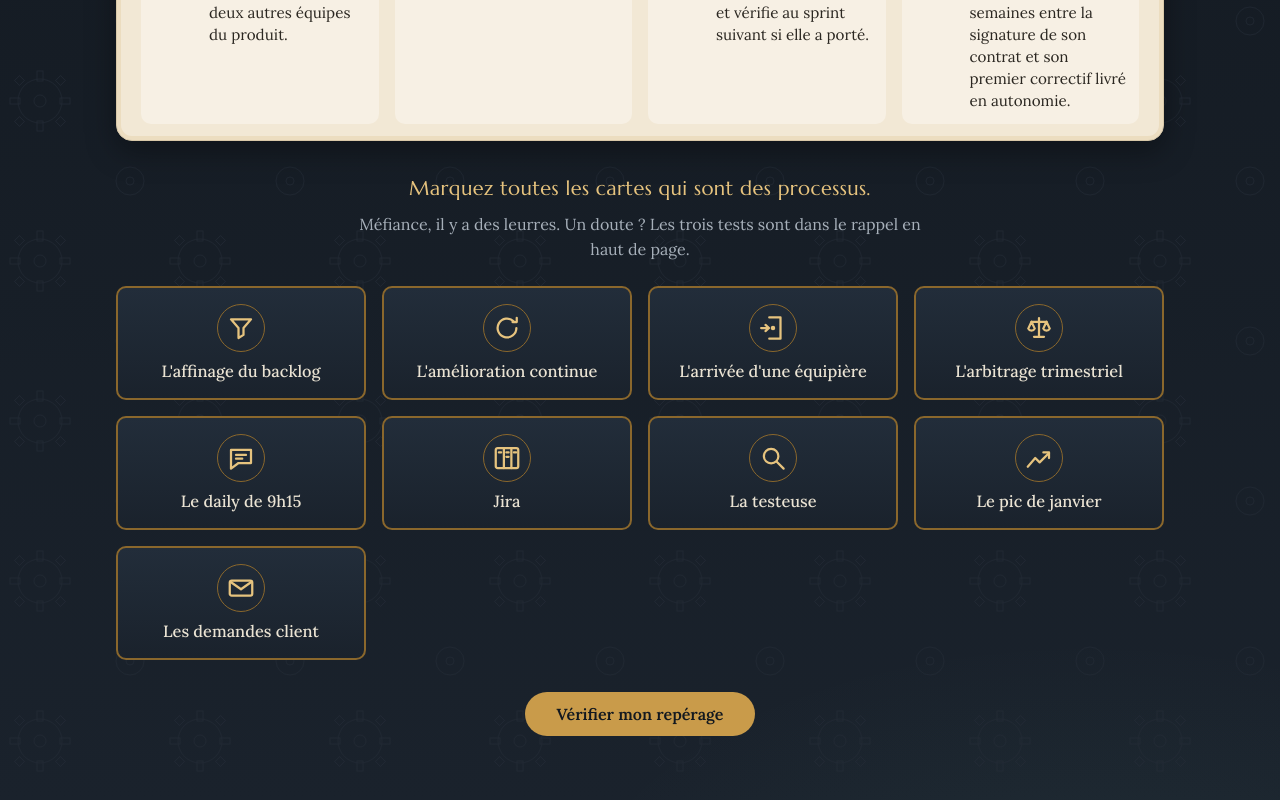
Test: SpottingBoard › marque et démarque un candidat (aria-pressed)
(page scrolled)
Click the button "Jira" at (507, 473), box top-left (382, 416), bottom-right (632, 530)
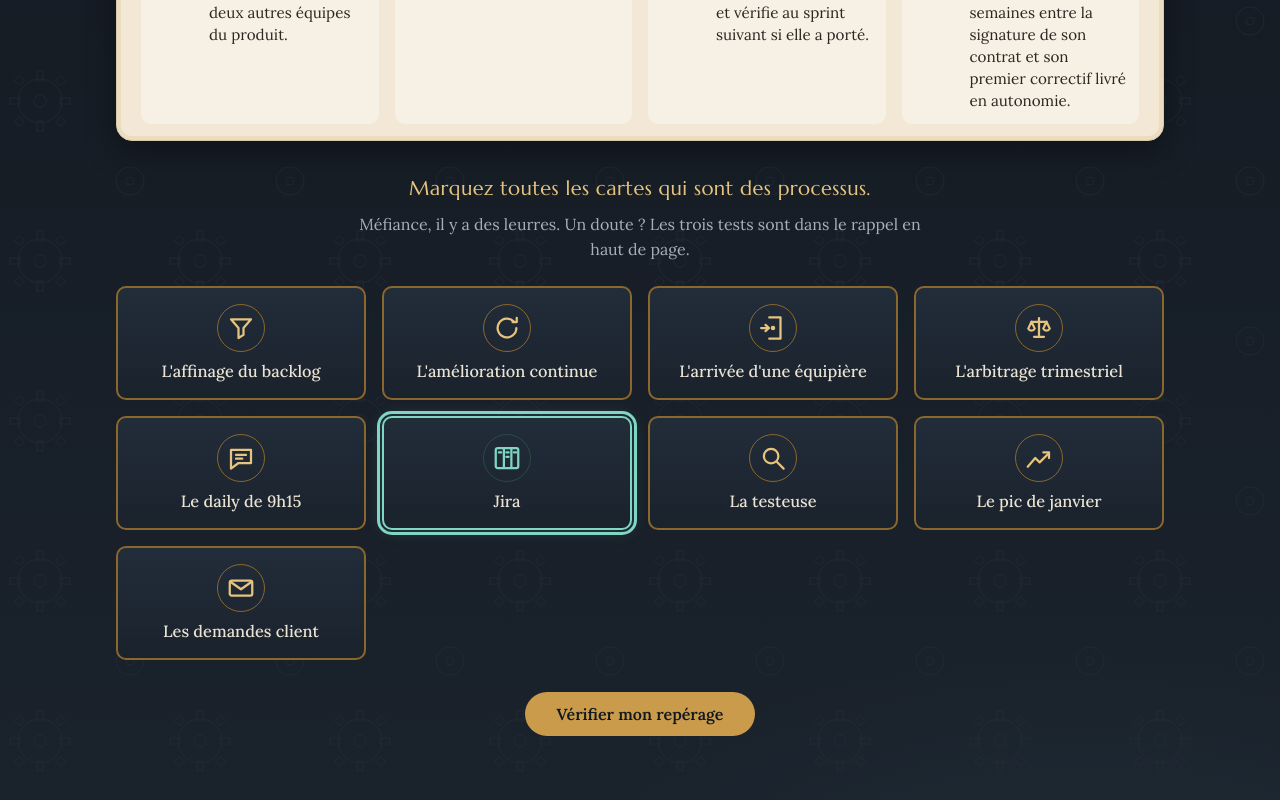
Now the button "Jira" is pressed
Click the button "Jira" at (507, 473), box top-left (382, 416), bottom-right (632, 530)
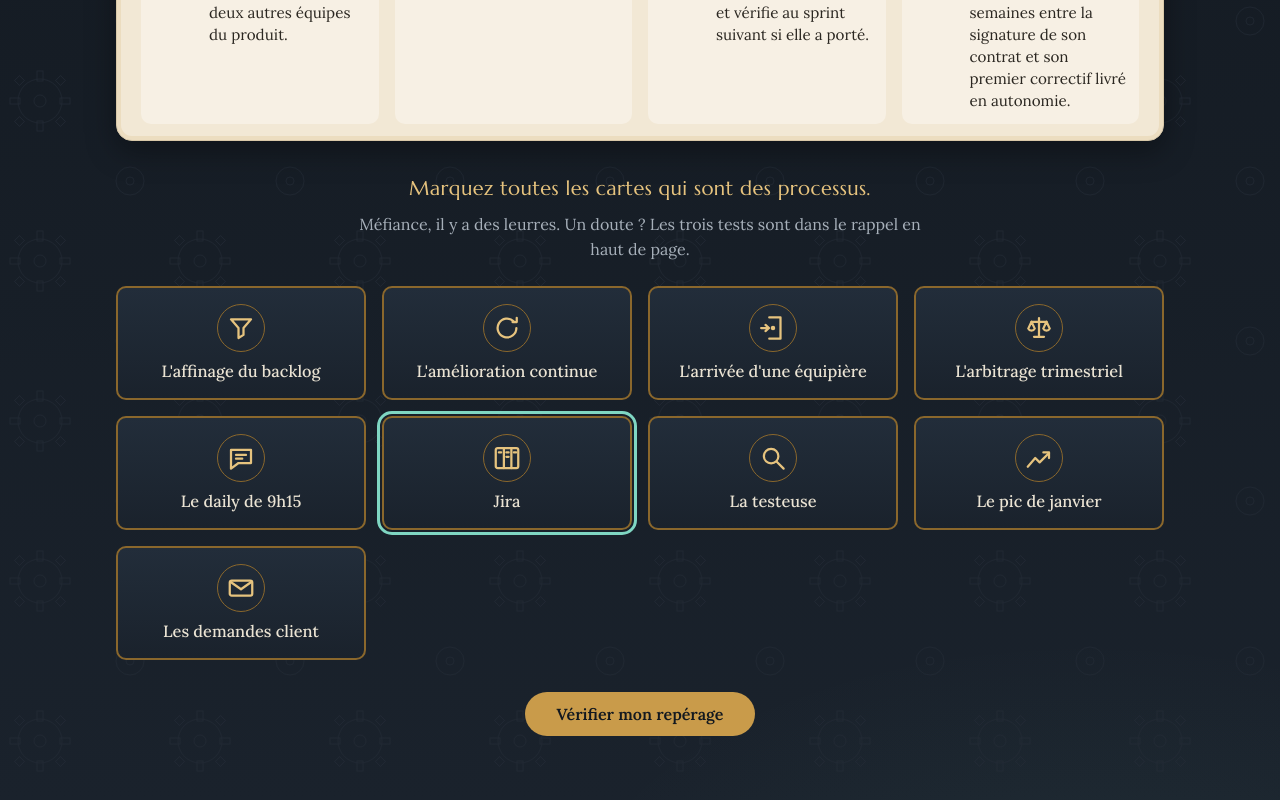
Now the button "Jira" is not pressed, box top-left (382, 416), bottom-right (632, 530)
